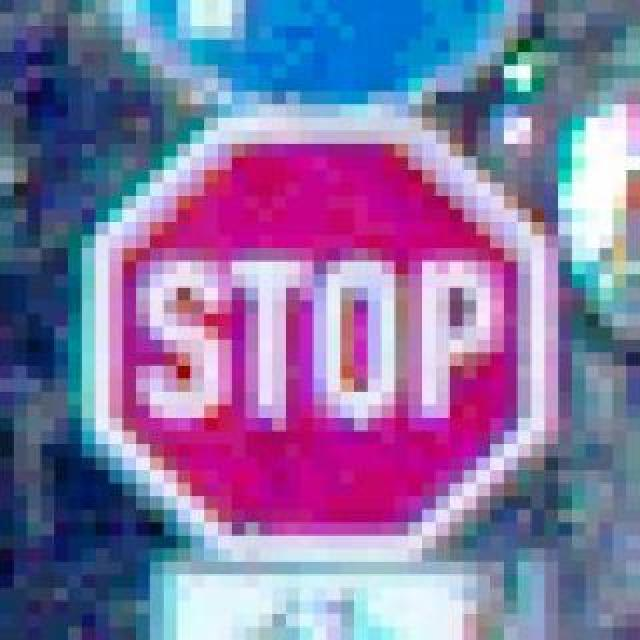stop: (90, 112, 554, 562)
